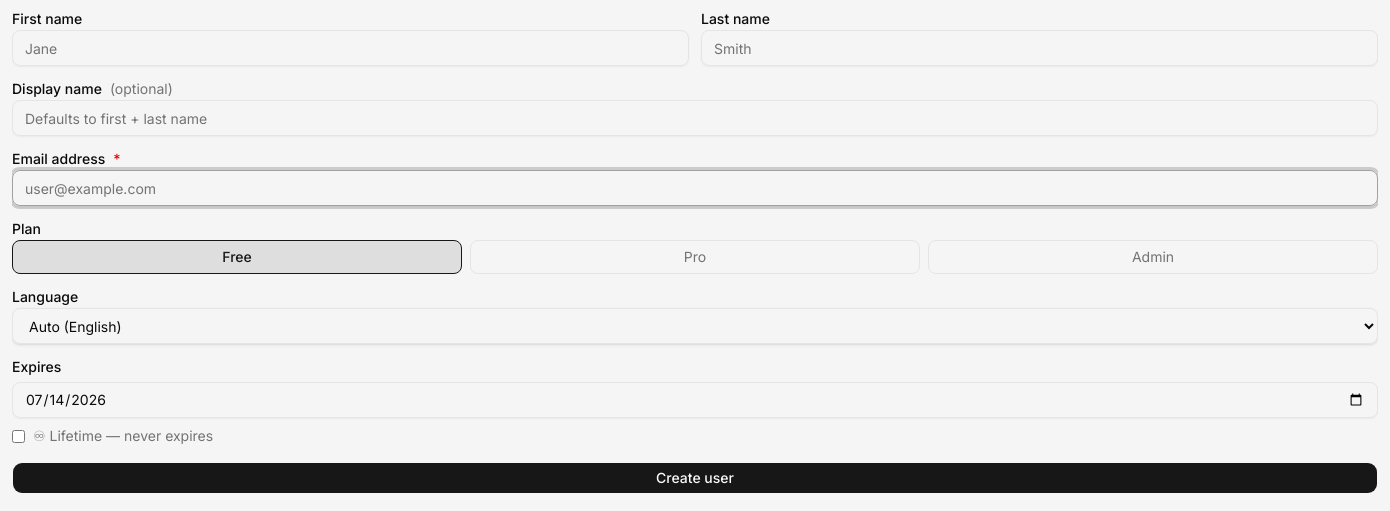
Test: CreateUserForm › shows OtpDisplay after a successful creation
Type "bob@example.com" into the field labelled "Email address *" at (695, 188), box [12, 170, 1378, 206]
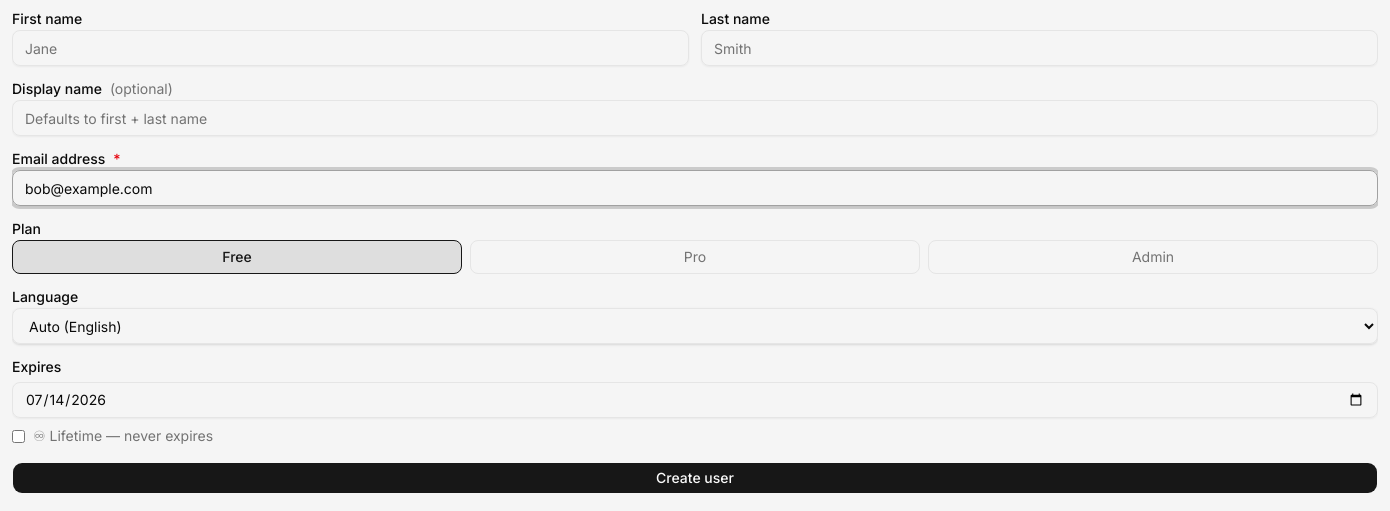
Click the button "Create user" at (695, 478), box [12, 462, 1378, 494]
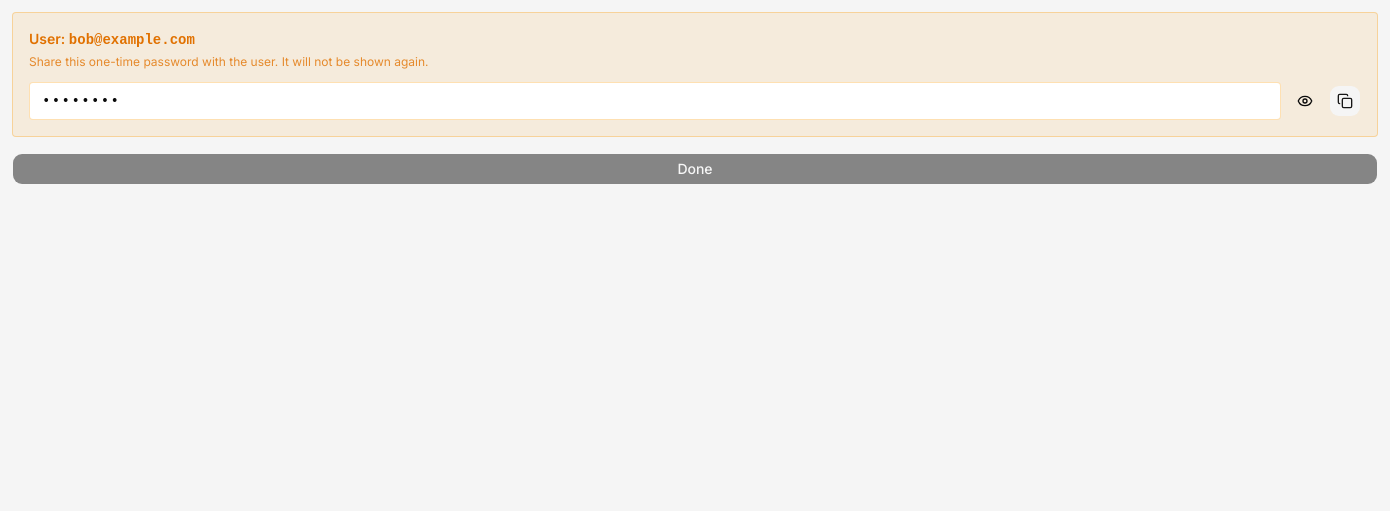
Now the text "bob@example.com" is shown, box [69, 32, 195, 48]
Now the button titled "Reveal" is shown, box [1289, 85, 1321, 117]
